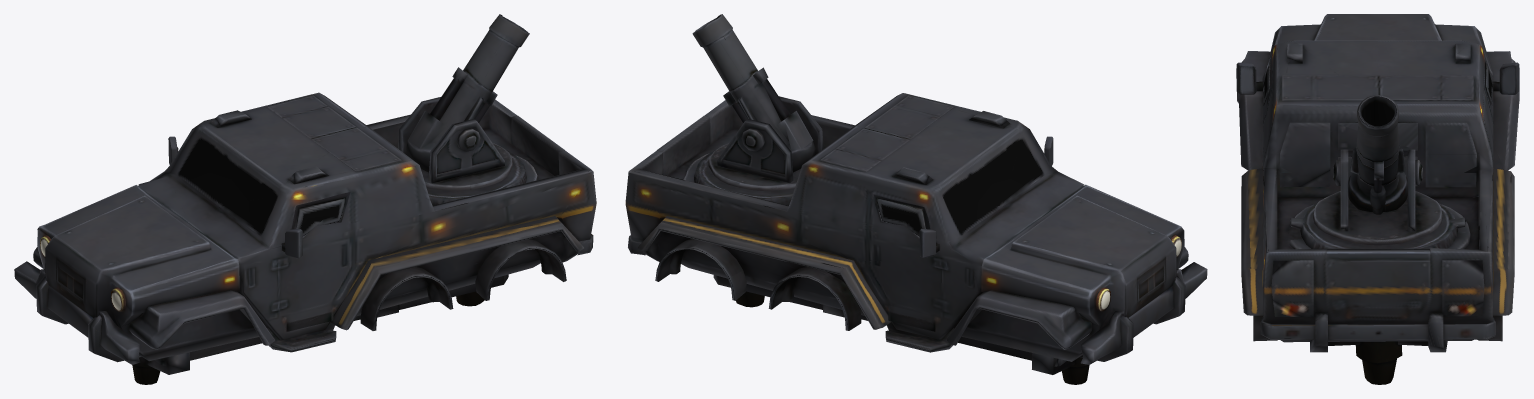
Rendered from enemy_mortar.glb.
3 views of the same model, side by side, from view 1: azimuth 30°, elevation 25°; view 2: azimuth 150°, elevation 25°; view 3: azimuth 270°, elevation 25° (orthographic). The views are drawn at different scales.
Parts seen in each view (by area): view 1: geometry_0; view 2: geometry_0; view 3: geometry_0.
Boxes of the visible parts, x1,y1,x2,y2 form: geometry_0: [14, 14, 596, 384]; geometry_0: [625, 14, 1207, 384]; geometry_0: [1236, 14, 1519, 384].
Size of the model in its own units: 0.9531 by 0.5166 by 0.4429.
1 material, 1 textured.
